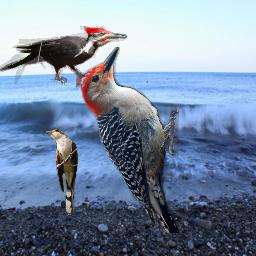Cuckoo: (46, 129, 78, 216)
Woodpecker: (76, 47, 179, 233), (0, 26, 127, 88)
